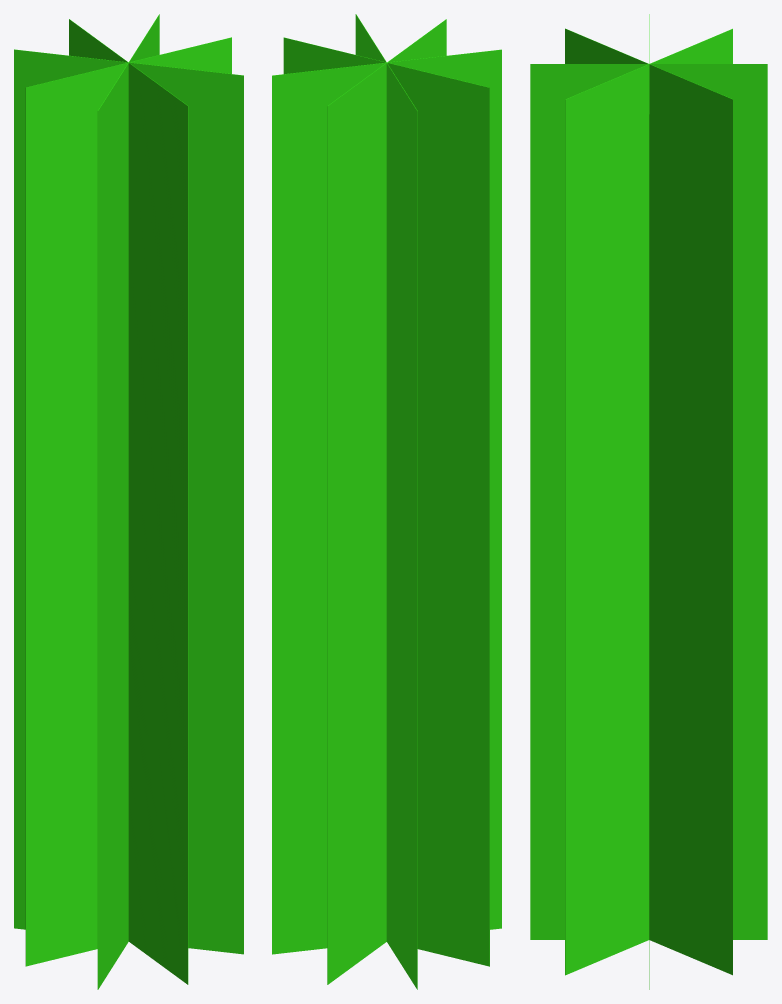
File: Cho.fbx
3 renders of one model, left to right at view 1: azimuth 30°, elevation 25°; view 2: azimuth 150°, elevation 25°; view 3: azimuth 270°, elevation 25°, orthographic.
Visible parts, largest first — view 1: Cho; view 2: Cho; view 3: Cho.
Part boxes in pixels (x1,y1,x2,y2): Cho: (14, 14, 243, 989); Cho: (272, 14, 501, 989); Cho: (530, 14, 767, 989).
Size of the model in its own units: 12.3 by 50.1 by 12.3.
